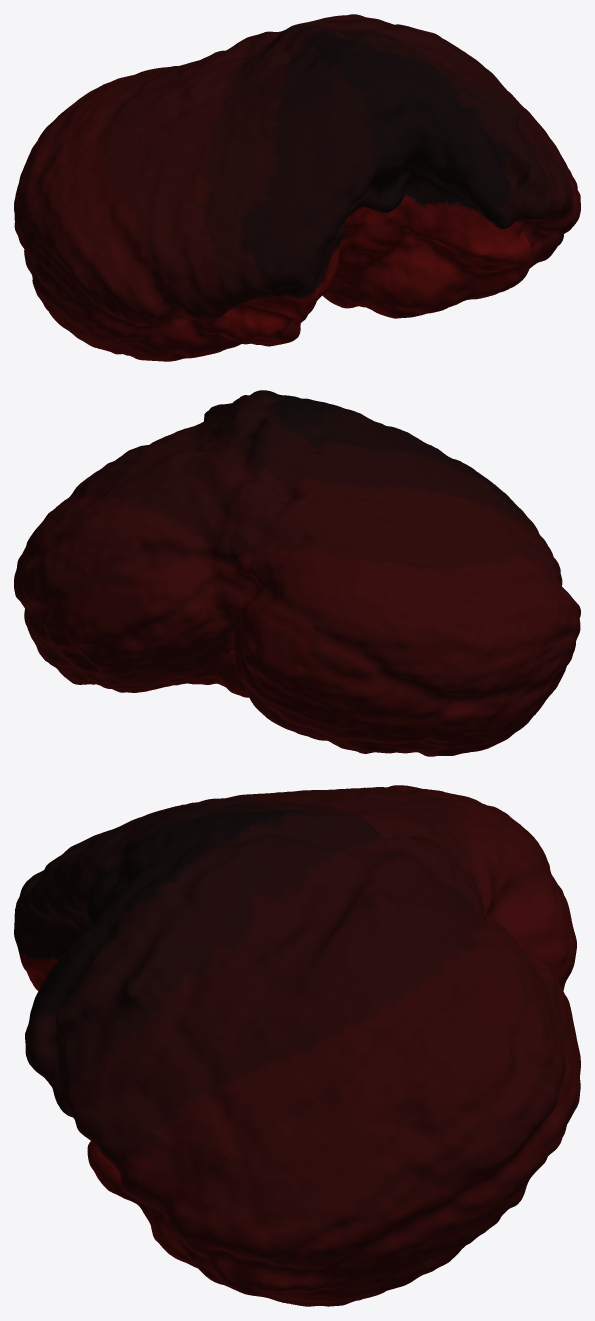
File: cerebelo_sereno_estudo.glb
The picture shows the model from 3 angles, top to bottom: view 1: azimuth 30°, elevation 25°; view 2: azimuth 150°, elevation 25°; view 3: azimuth 270°, elevation 25°; orthographic projection. The views are drawn at different scales.
Parts seen in each view (by area): view 1: cerebelo_sereno; view 2: cerebelo_sereno; view 3: cerebelo_sereno.
Part boxes in pixels (bbox=[...]): cerebelo_sereno: bbox=[14, 14, 580, 361]; cerebelo_sereno: bbox=[14, 390, 580, 756]; cerebelo_sereno: bbox=[14, 785, 580, 1306].
Size of the model in its own units: 11.44 by 6.02 by 7.97.
